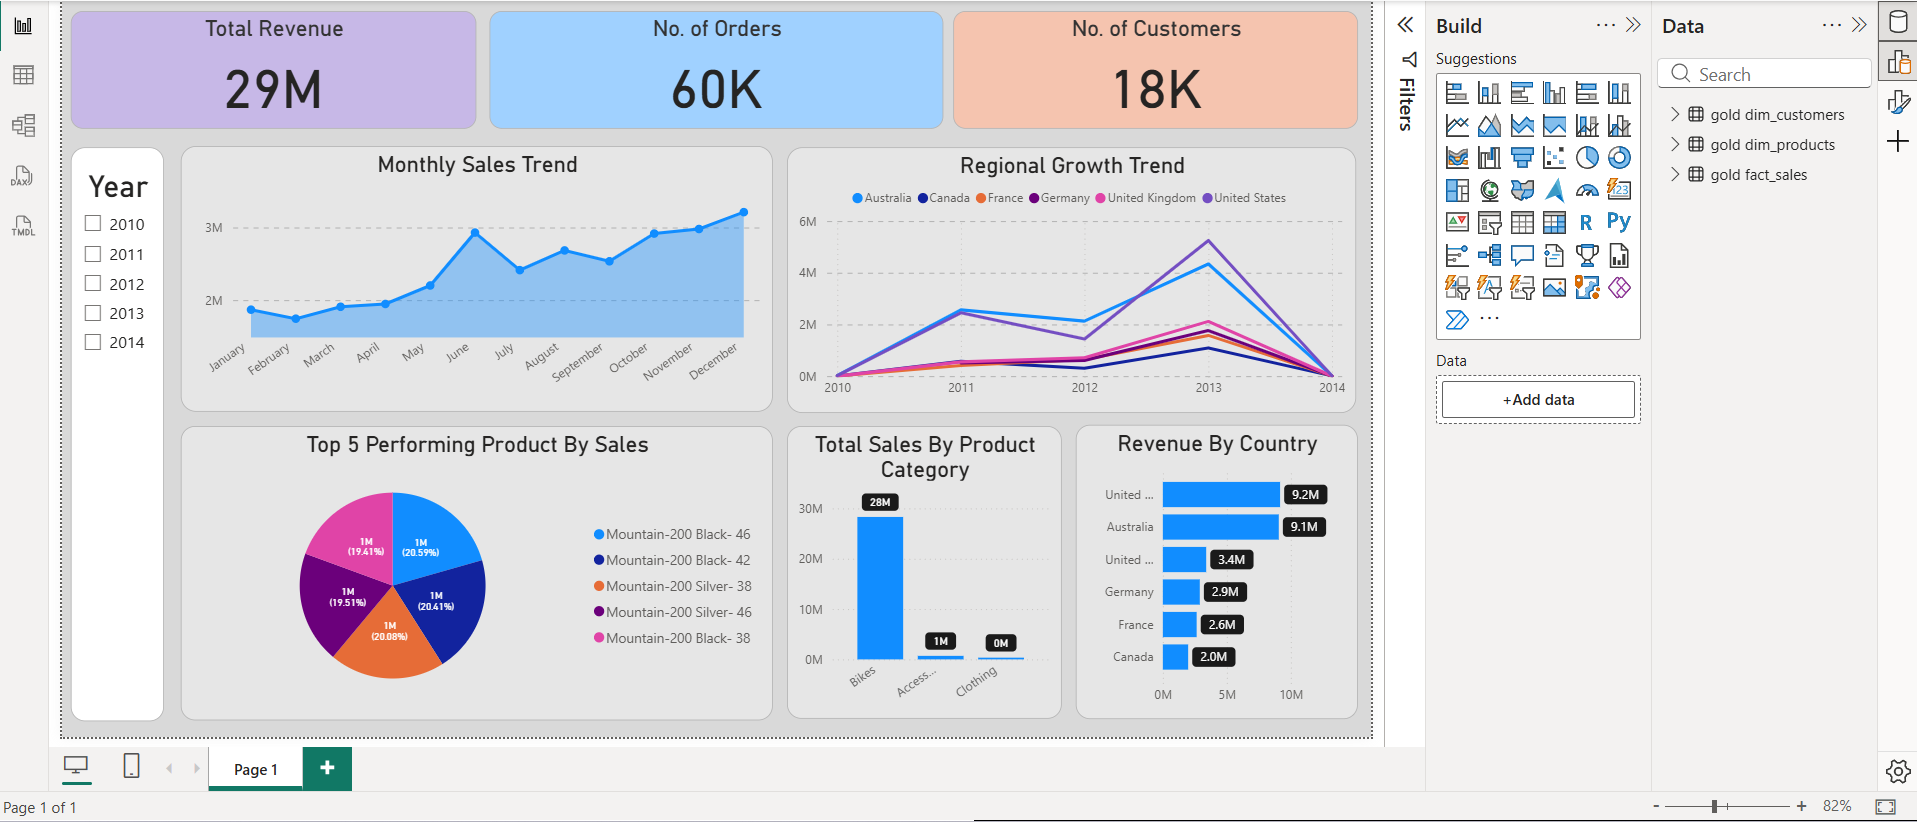

Layout of this report page (visuals, bound fields, positions):
{"tool":"powerbi","page":{"name":"Page 1","canvas":[1280,720],"ordinal":0},"visuals":[{"type":"columnChart","title":"Total Sales By Product Category","fields":{"Category":["gold dim_products.category"],"Y":["Sum(gold fact_sales.Sales_amount)"]},"box":[709.2,416.2,268.8,286.1],"z":0},{"type":"card","title":"Total Revenue","fields":{"Values":["Sum(gold fact_sales.Sales_amount)"]},"box":[8.7,10.1,396.8,115.4],"z":1000},{"type":"card","title":"No. of Orders","fields":{"Values":["gold fact_sales.Total Number of Orders"]},"box":[418.2,9.8,443.9,114.9],"z":2000},{"type":"card","title":"No. of Customers","fields":{"Values":["gold fact_sales.Total No. of Customers"]},"box":[871.9,9.8,396.2,114.9],"z":3000},{"type":"slicer","title":"Year","fields":{"Values":["gold fact_sales.order_date.Variation.Date Hierarchy.Year"]},"box":[8,142.8,90.9,561.2],"z":4000},{"type":"lineChart","title":"Monthly Sales Trend","fields":{"Category":["gold fact_sales.order_date.Variation.Date Hierarchy.Month"],"Y":["Sum(gold fact_sales.Sales_amount)"]},"box":[116.2,142.2,579.1,260.1],"z":5000},{"type":"pieChart","title":"Top 5 Performing Product By Sales","fields":{"Category":["gold dim_products.product_name"],"Y":["Sum(gold fact_sales.Sales_amount)"]},"box":[116.2,416.2,579.1,287.8],"z":6000},{"type":"barChart","title":"Revenue By Country","fields":{"Category":["gold dim_customers.country"],"Y":["Sum(gold fact_sales.Sales_amount)"]},"box":[991.8,414.4,275.7,287.8],"z":7000},{"type":"lineChart","title":"Regional Growth Trend","fields":{"Category":["gold fact_sales.order_date.Variation.Date Hierarchy.Year"],"Y":["Sum(gold fact_sales.Sales_amount)"],"Series":["gold dim_customers.country"]},"box":[709.8,142.8,556.9,259.7],"z":8000}]}

Visuals, with their boxes on the page's 1280x720 design canvas (x1, y1, x2, y2). These are canvas units, not pixel positions in the 1917x822 screenshot, which may show the page scaled, cropped or inside an application window:
"Total Sales By Product Category" columnChart: select_region(709, 416, 978, 702)
"Total Revenue" card: select_region(9, 10, 406, 126)
"No. of Orders" card: select_region(418, 10, 862, 125)
"No. of Customers" card: select_region(872, 10, 1268, 125)
"Year" slicer: select_region(8, 143, 99, 704)
"Monthly Sales Trend" lineChart: select_region(116, 142, 695, 402)
"Top 5 Performing Product By Sales" pieChart: select_region(116, 416, 695, 704)
"Revenue By Country" barChart: select_region(992, 414, 1268, 702)
"Regional Growth Trend" lineChart: select_region(710, 143, 1267, 402)
